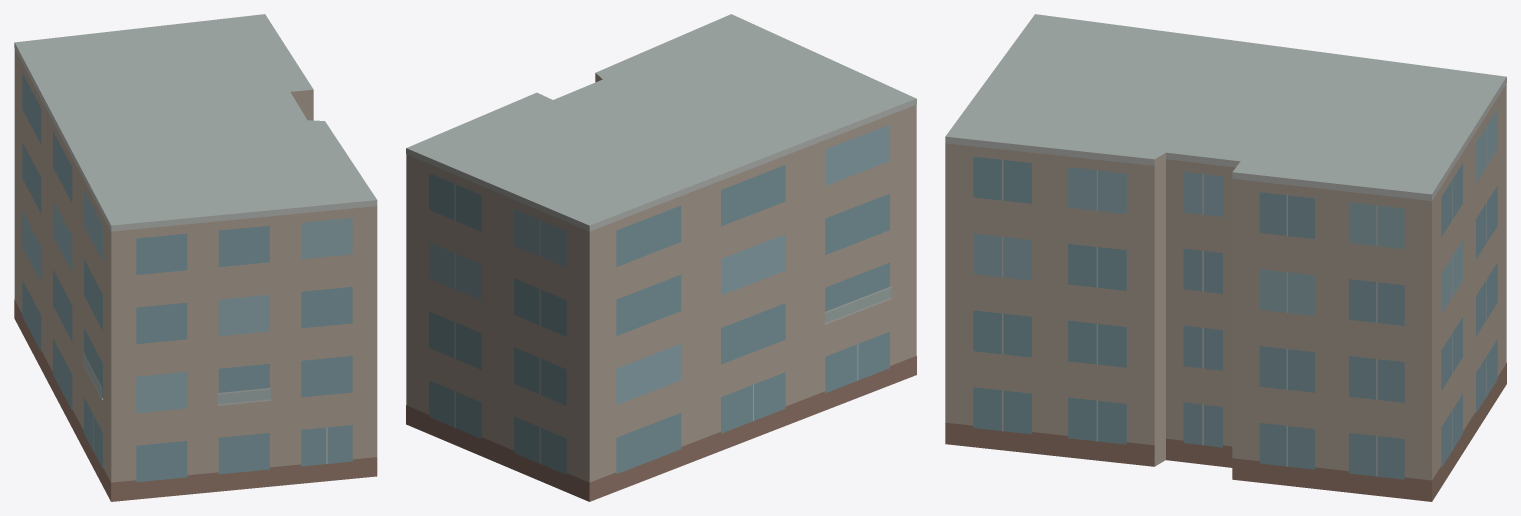
The model's file is survey-upis-32877574.glb.
3 renders of one model, left to right at view 1: azimuth 30°, elevation 25°; view 2: azimuth 150°, elevation 25°; view 3: azimuth 270°, elevation 25°, orthographic. The views are drawn at different scales.
Parts seen in each view (by area): view 1: survey-upis-32877574.tmp; view 2: survey-upis-32877574.tmp; view 3: survey-upis-32877574.tmp.
Part boxes in pixels (x1,y1,x2,y2): survey-upis-32877574.tmp: (14,14,377,501); survey-upis-32877574.tmp: (406,14,916,501); survey-upis-32877574.tmp: (945,14,1506,501).
Size of the model in its own units: 14.23 by 11.3 by 18.71.
